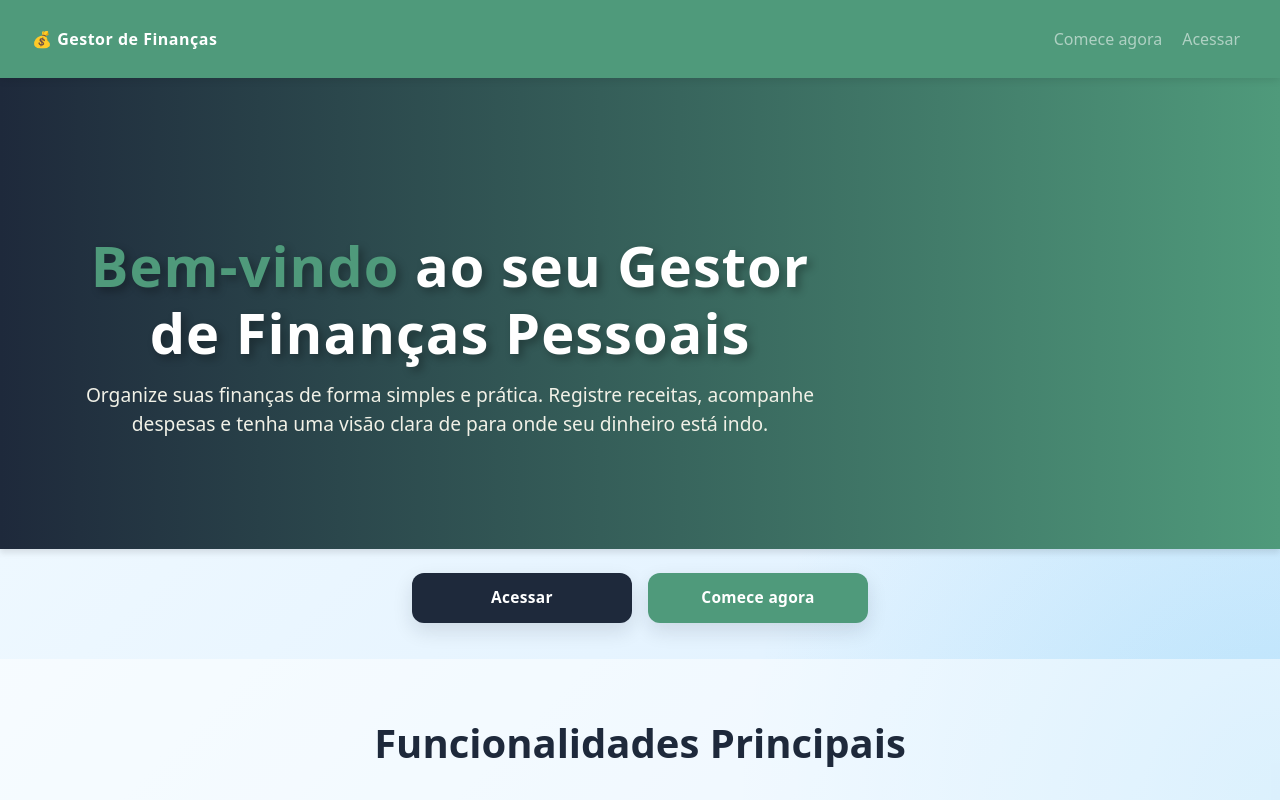
it: opens the login form for Acessar and the register form for Comece agora
Click the 2nd button "Acessar" at (522, 598), box [412, 573, 632, 623]
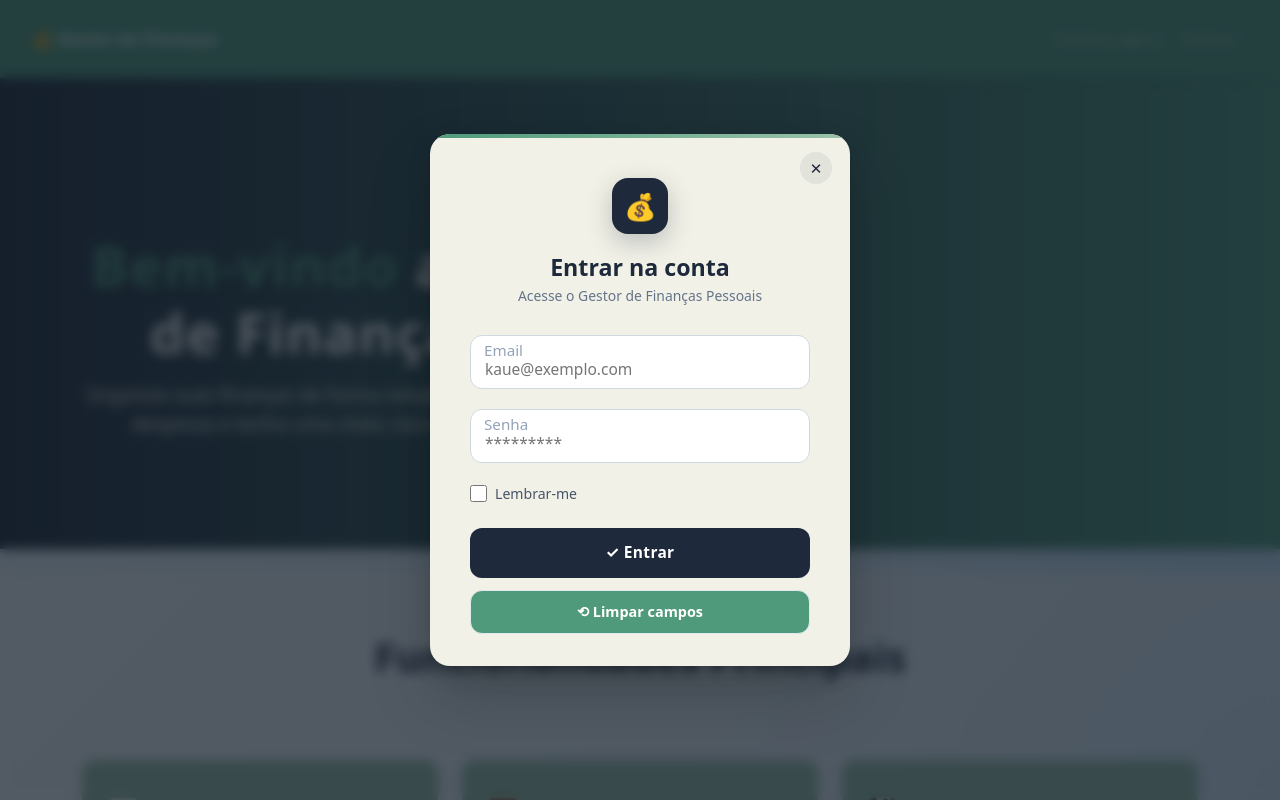
Check: the heading "Entrar na conta" is shown, box [550, 251, 730, 283]
Click the button named "fechar" at (816, 168), box [800, 152, 832, 184]
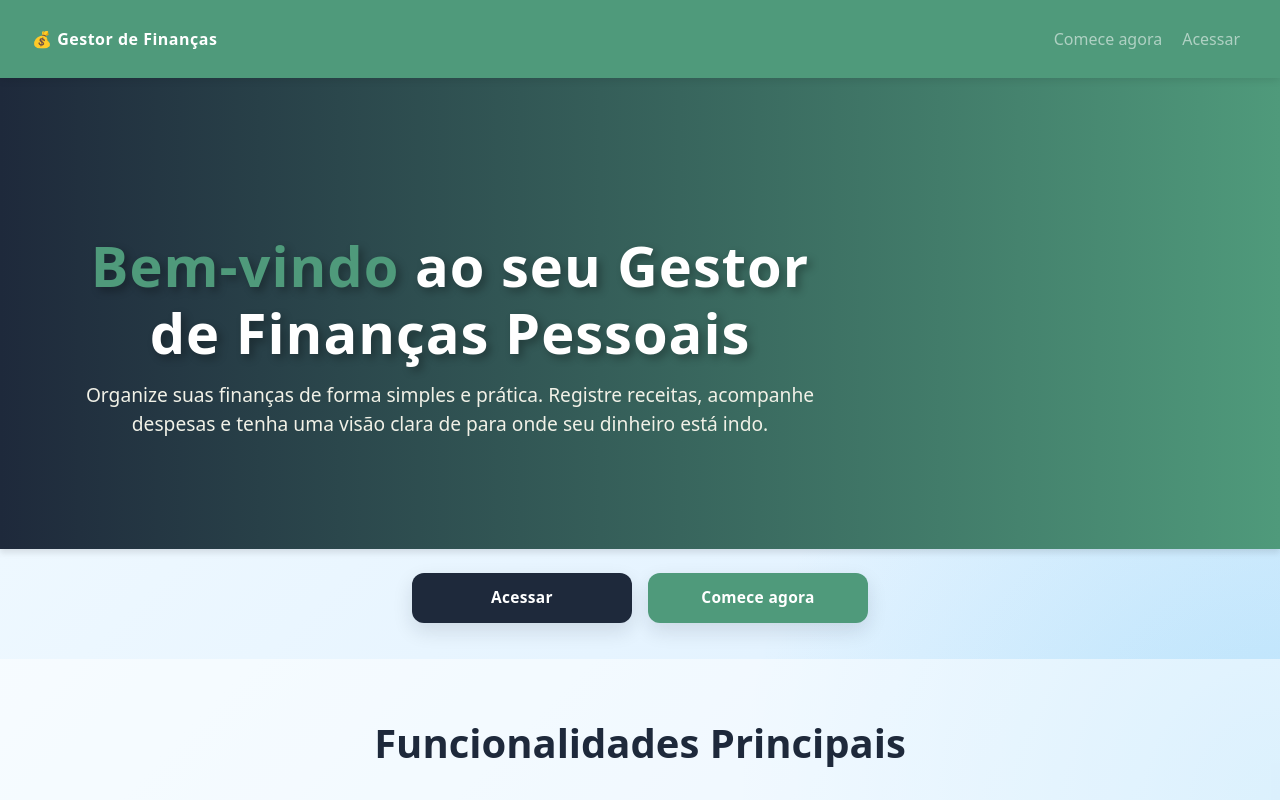
Click the 2nd button "Comece agora" at (758, 598), box [648, 573, 868, 623]
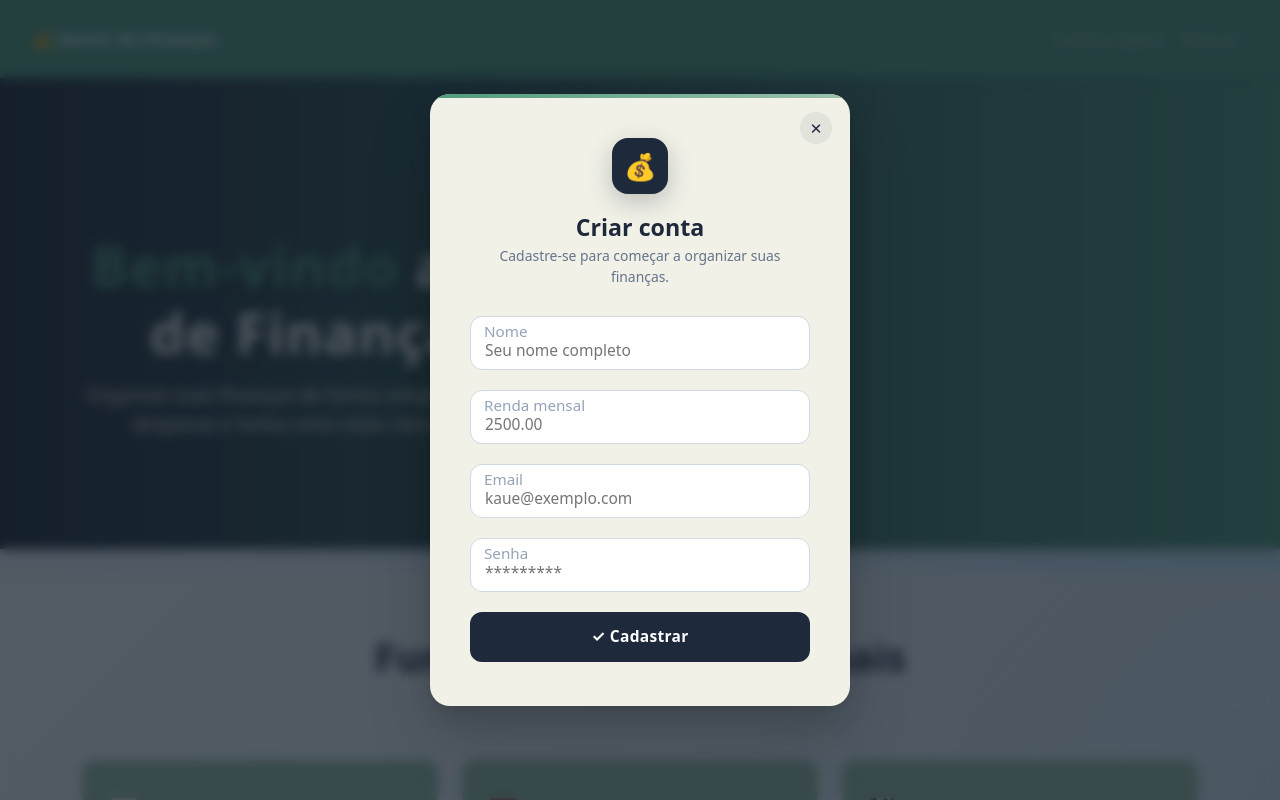
Check: the heading "Criar conta" is shown, box [576, 211, 704, 243]
